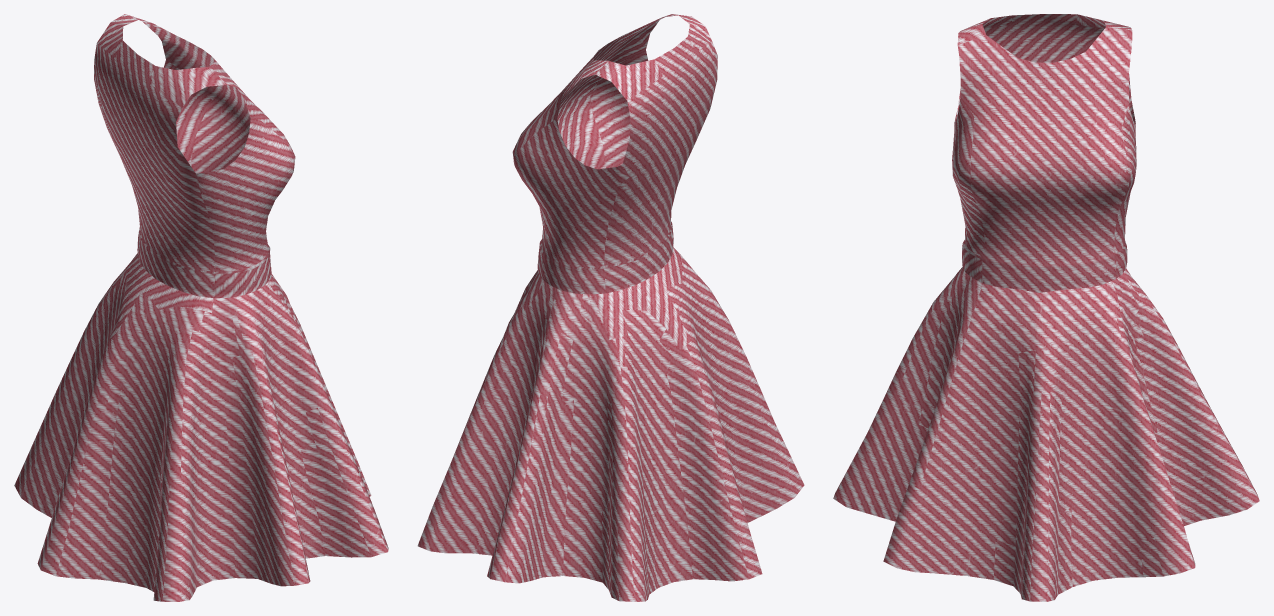
The model's file is yifu_02.fbx.
3 views of the same model, side by side, from view 1: azimuth 30°, elevation 25°; view 2: azimuth 150°, elevation 25°; view 3: azimuth 270°, elevation 25° (orthographic). The views are drawn at different scales.
Visible parts, largest first — view 1: yifu_02; view 2: yifu_02; view 3: yifu_02.
Part boxes in pixels (x1,y1,x2,y2): yifu_02: (14,14,388,601); yifu_02: (417,14,804,601); yifu_02: (833,14,1259,601).
Size of the model in its own units: 63.61 by 97.26 by 75.43.
